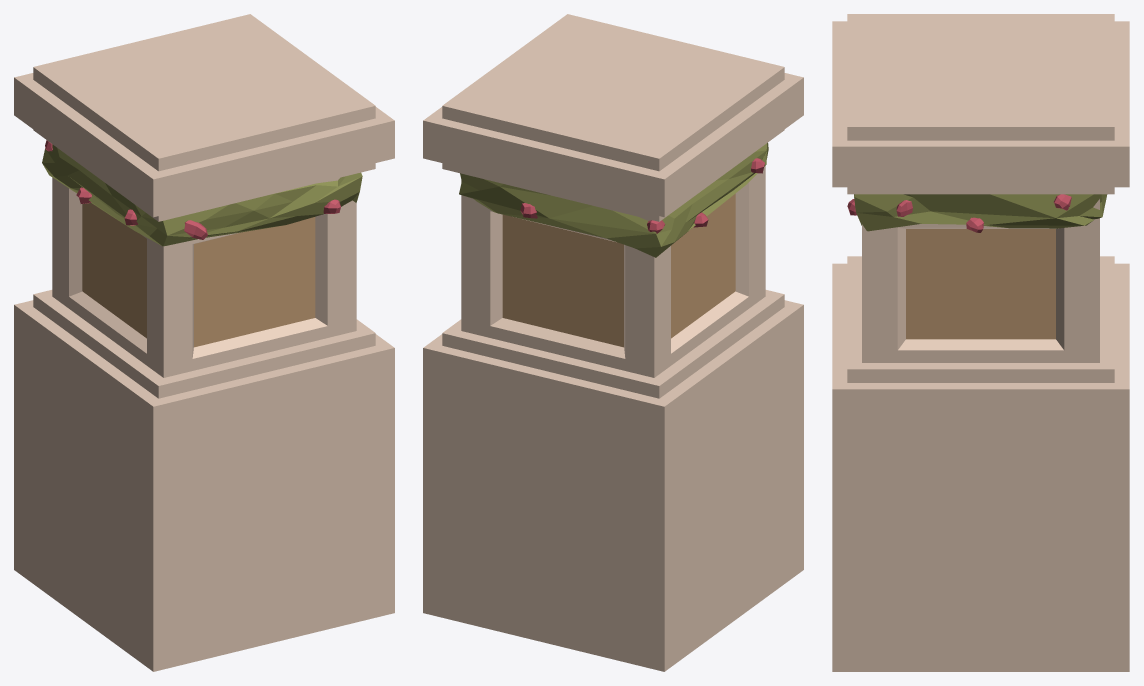
Rendered from greek_statue_base_1.fbx.
The picture shows the model from 3 angles, left to right: view 1: azimuth 30°, elevation 25°; view 2: azimuth 150°, elevation 25°; view 3: azimuth 270°, elevation 25°; orthographic projection. The views are drawn at different scales.
Visible parts, largest first — view 1: Cube, Icosphere; view 2: Cube, Icosphere; view 3: Cube, Icosphere.
Boxes of the visible parts, x1,y1,x2,y2 form: Cube: [14, 14, 394, 671]; Icosphere: [42, 140, 362, 246]; Cube: [423, 14, 803, 671]; Icosphere: [459, 142, 768, 257]; Cube: [832, 14, 1129, 671]; Icosphere: [847, 194, 1107, 232].
Size of the model in its own units: 100 by 200 by 100.
